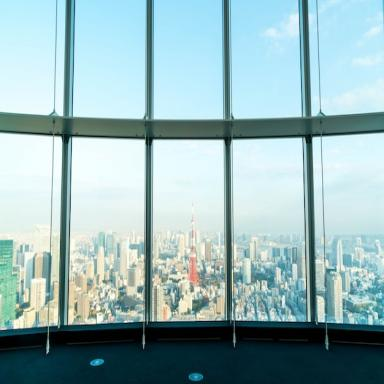glass_panel: (69, 138, 145, 324), (152, 141, 226, 321), (234, 138, 306, 323), (320, 133, 384, 325), (0, 134, 53, 330), (230, 0, 302, 117), (74, 1, 146, 118), (153, 1, 224, 118), (317, 0, 384, 115), (0, 1, 56, 115), (307, 0, 319, 114)
